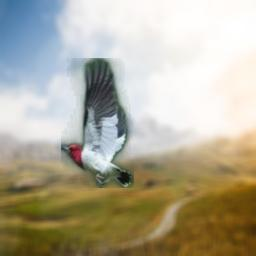Woodpecker: (61, 58, 134, 188)
